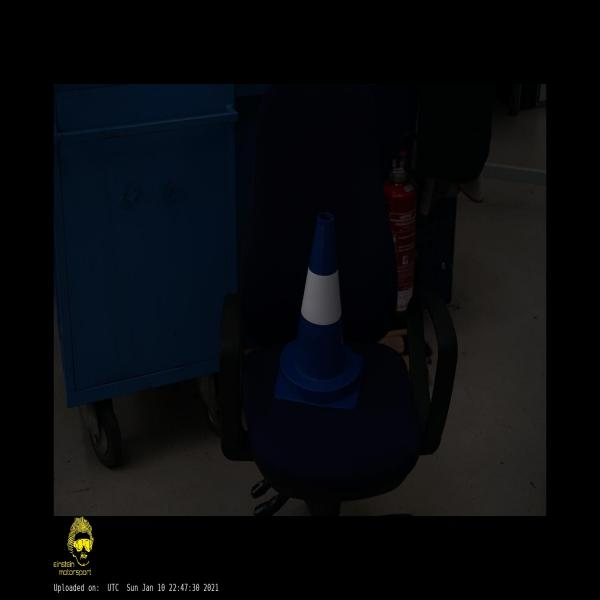blue_cone: (274, 212, 362, 408)
